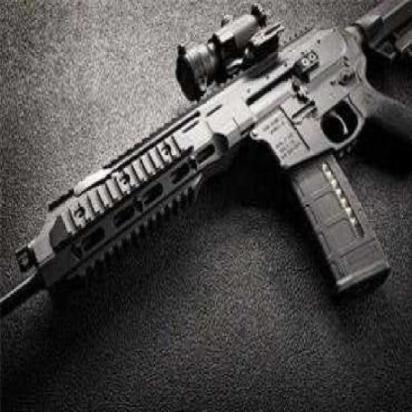Gun: (0, 0, 410, 337)
